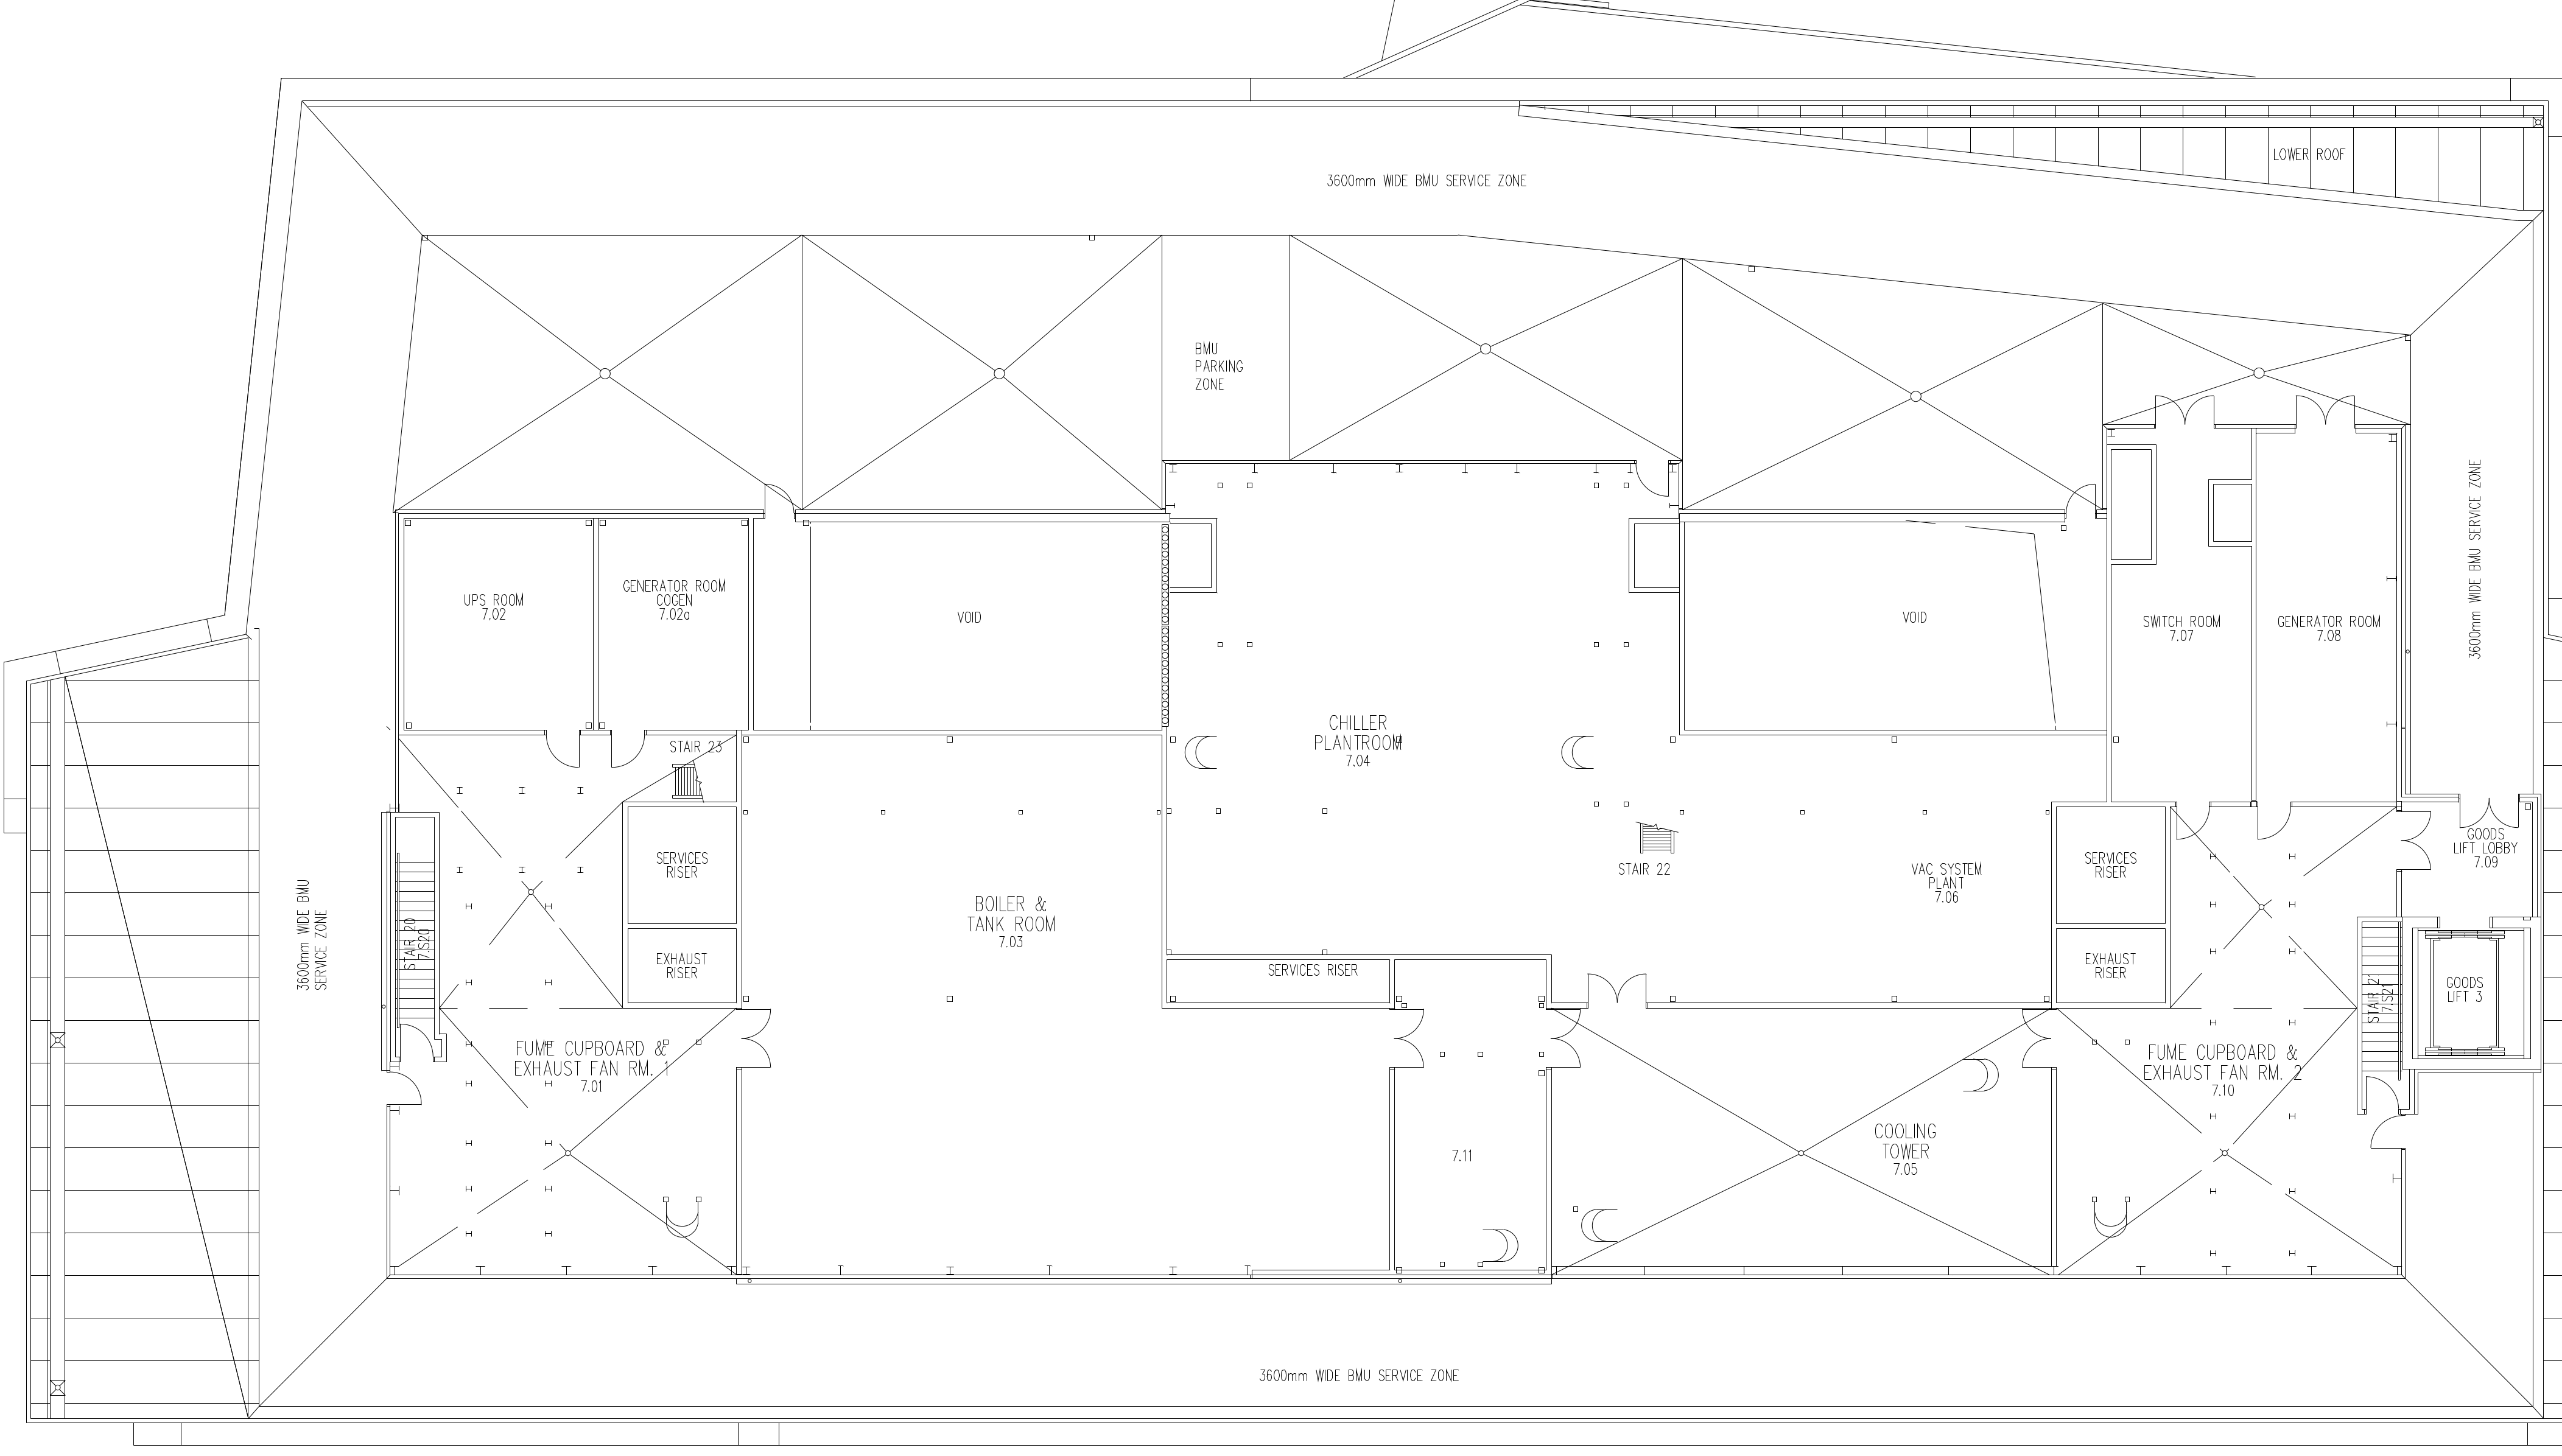room: (1165, 466, 1679, 953), (743, 735, 1161, 1273), (1550, 737, 2103, 1002), (1552, 1009, 2052, 1266), (1679, 510, 2106, 730), (389, 1009, 741, 1275), (2057, 1008, 2402, 1271), (755, 519, 1161, 730), (1161, 1009, 1392, 1280), (399, 735, 623, 1009), (2108, 426, 2252, 802), (2258, 431, 2397, 802), (1394, 960, 1547, 1271), (2171, 807, 2397, 1008), (405, 519, 591, 730), (598, 519, 748, 730), (2397, 804, 2532, 918), (2414, 928, 2530, 1059), (609, 739, 736, 802)
